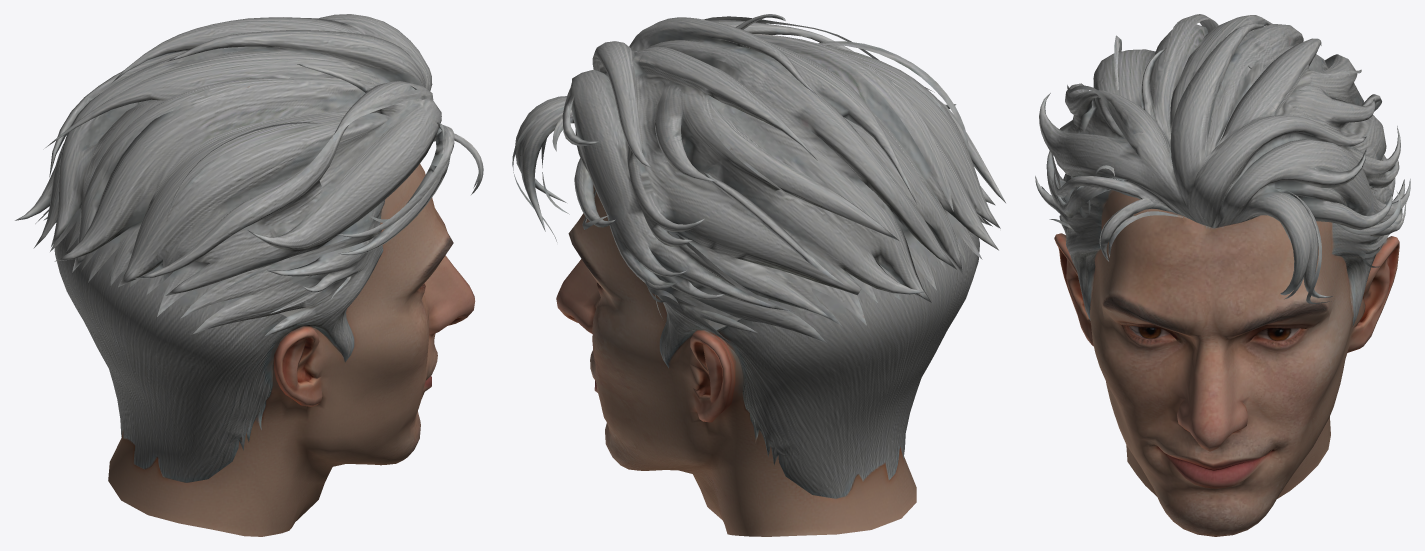
The model's file is source.glb.
3 renders of one model, left to right at view 1: azimuth 30°, elevation 25°; view 2: azimuth 150°, elevation 25°; view 3: azimuth 270°, elevation 25°, orthographic. The views are drawn at different scales.
Parts seen in each view (by area): view 1: tripo_node_4e12ba9b-bf48-4ab2-9506-7daacec12053; view 2: tripo_node_4e12ba9b-bf48-4ab2-9506-7daacec12053; view 3: tripo_node_4e12ba9b-bf48-4ab2-9506-7daacec12053.
Part boxes in pixels (x1,y1,x2,y2): tripo_node_4e12ba9b-bf48-4ab2-9506-7daacec12053: (15,14,483,536); tripo_node_4e12ba9b-bf48-4ab2-9506-7daacec12053: (512,14,1005,536); tripo_node_4e12ba9b-bf48-4ab2-9506-7daacec12053: (1035,14,1410,536).
Size of the model in its own units: 0.9253 by 0.9995 by 0.7173.
Materials: 1 (1 with a texture image).
